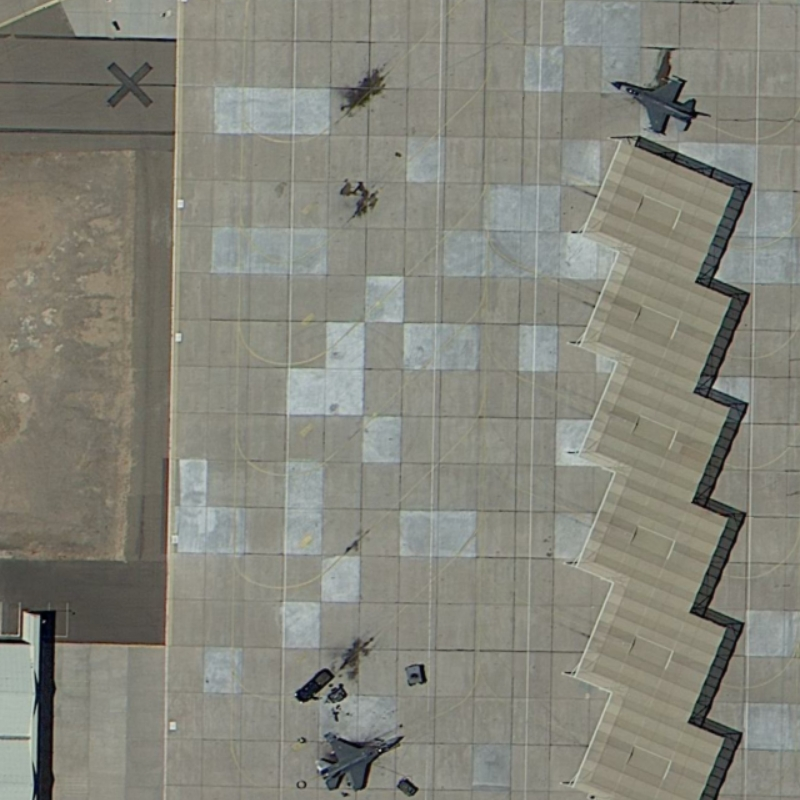A5: (310, 726, 405, 797), (611, 67, 704, 137)
